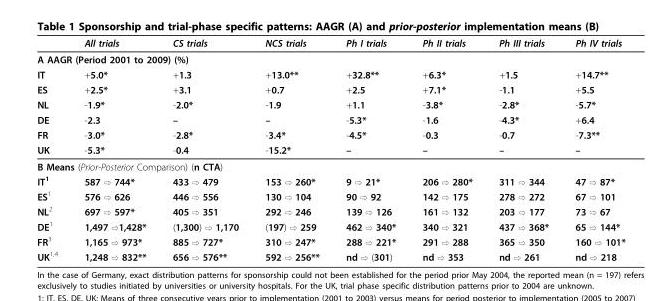table: (36, 36, 624, 262)
table column: (158, 36, 251, 262), (70, 36, 158, 262), (251, 36, 332, 262), (484, 36, 561, 262), (332, 36, 408, 262), (408, 36, 484, 262), (561, 36, 624, 262), (36, 36, 70, 262)
table column header: (36, 36, 624, 50)
table projected row header: (36, 50, 624, 66), (36, 157, 624, 173)
table row: (36, 50, 624, 66), (36, 126, 624, 142), (36, 157, 624, 173), (36, 66, 624, 81), (36, 81, 624, 96), (36, 96, 624, 111), (36, 111, 624, 126), (36, 142, 624, 157), (36, 173, 624, 188), (36, 188, 624, 203), (36, 203, 624, 218), (36, 218, 624, 233), (36, 233, 624, 248), (36, 36, 624, 50), (36, 248, 624, 262)
